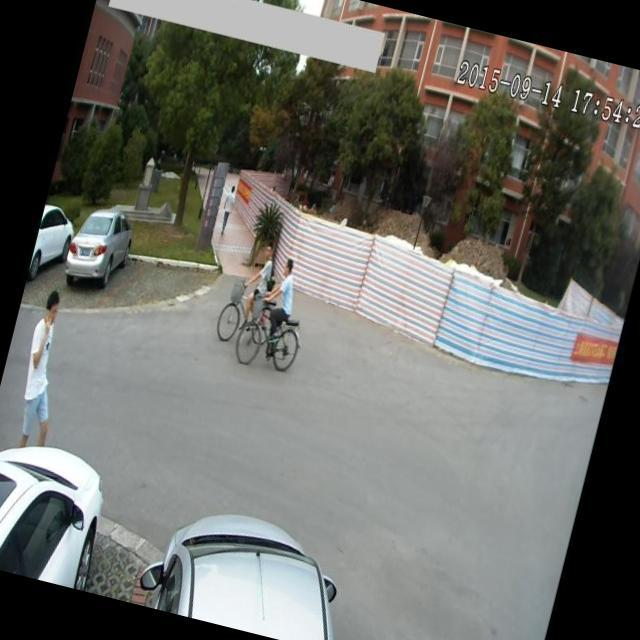person: (1, 285, 80, 451), (262, 250, 305, 330), (242, 240, 280, 312), (213, 180, 241, 238)
